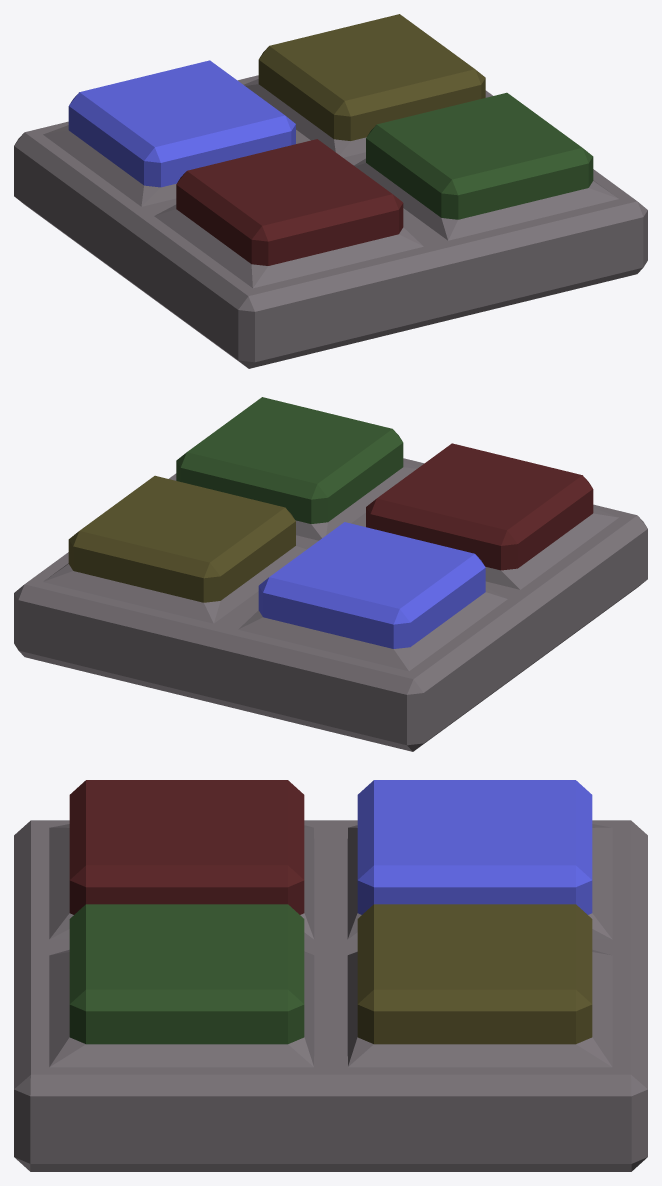
File: simon_blue.glb
The picture shows the model from 3 angles, top to bottom: view 1: azimuth 30°, elevation 25°; view 2: azimuth 150°, elevation 25°; view 3: azimuth 270°, elevation 25°; orthographic projection. The views are drawn at different scales.
Visible parts, largest first — view 1: Simon; view 2: Simon; view 3: Simon.
Part boxes in pixels (<box>): Simon: <box>14,14,647,368</box>; Simon: <box>14,397,647,751</box>; Simon: <box>14,780,647,1171</box>.
Bounding box in the file's own units: 0.7697 × 0.2145 × 0.7697.
